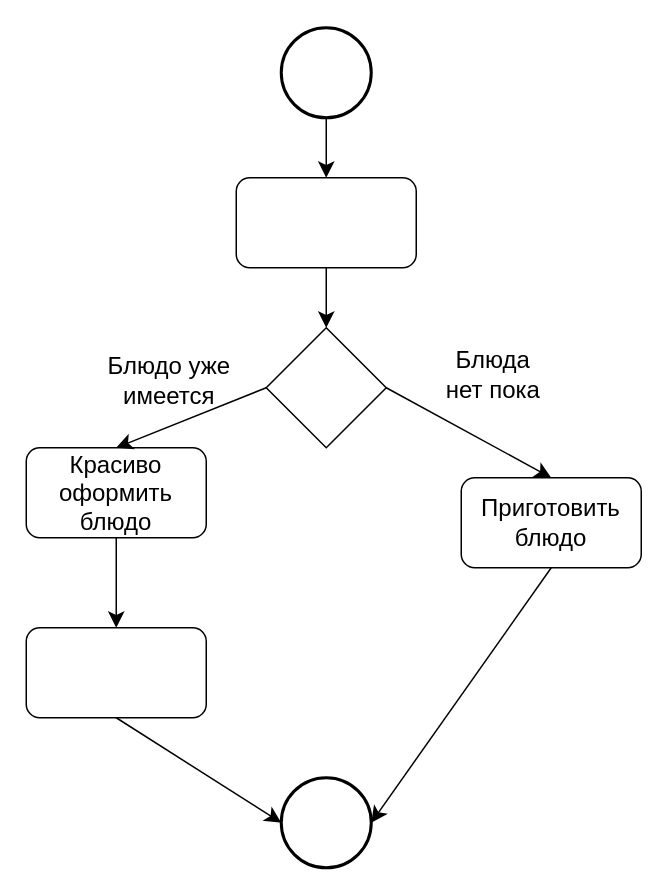
Some shapes in this 668 by 894 pixel diagram are drawn without their labels. The shapes that lost their labels are listed below. From the top down, each one's box as (x1, y1, x2, y2) in pixels, then its label:
(235, 176, 416, 268): Принять заказ
(25, 626, 206, 718): Преподнести блюдо клиенту
